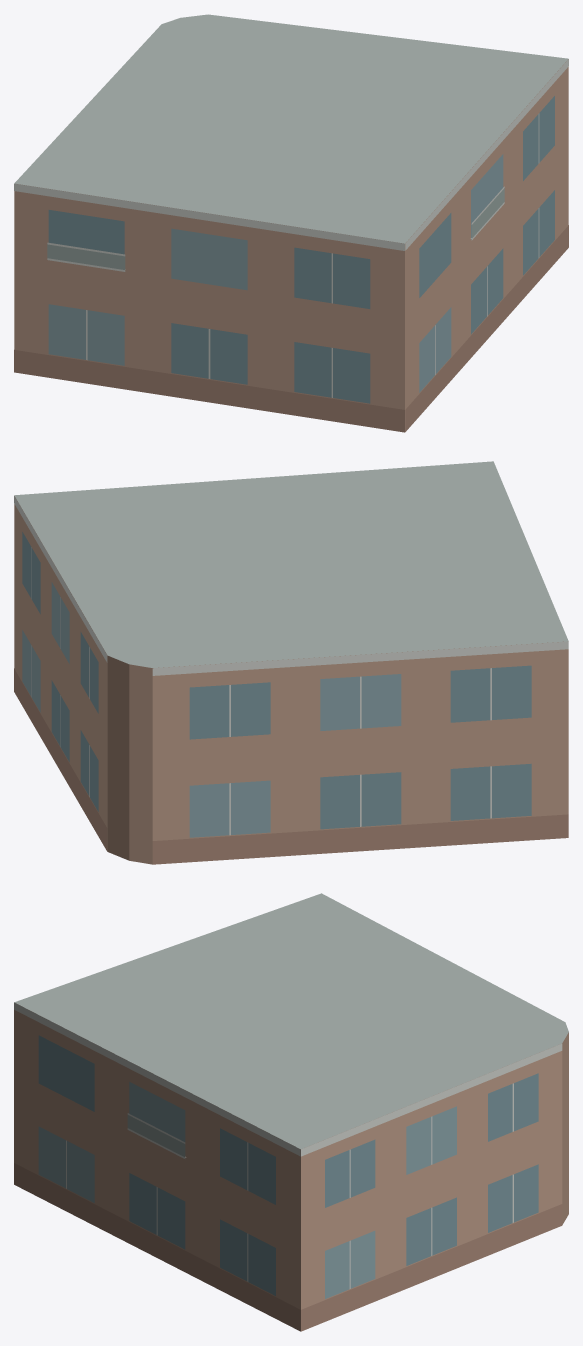
Rendered from survey-upis-32843194.glb.
3 views of the same model, one above another, from view 1: azimuth 30°, elevation 25°; view 2: azimuth 150°, elevation 25°; view 3: azimuth 270°, elevation 25° (orthographic). The views are drawn at different scales.
Visible parts, largest first — view 1: survey-upis-32843194.tmp; view 2: survey-upis-32843194.tmp; view 3: survey-upis-32843194.tmp.
Boxes of the visible parts, <box> form: survey-upis-32843194.tmp: <box>14,14,568,432</box>; survey-upis-32843194.tmp: <box>14,461,568,864</box>; survey-upis-32843194.tmp: <box>14,893,568,1331</box>.
Bounding box in the file's own units: 18.39 × 6.1 × 16.84.
